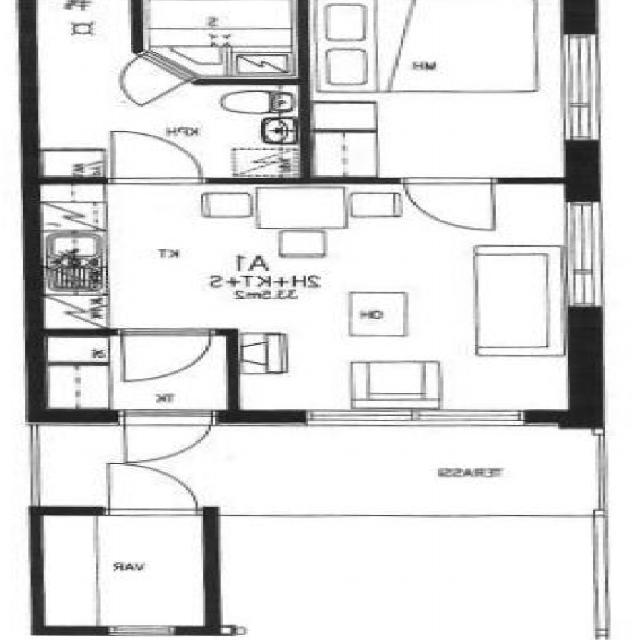door: (94, 49, 200, 106), (125, 410, 212, 474), (109, 460, 198, 516), (114, 130, 203, 184), (405, 178, 493, 232), (123, 330, 211, 383)
